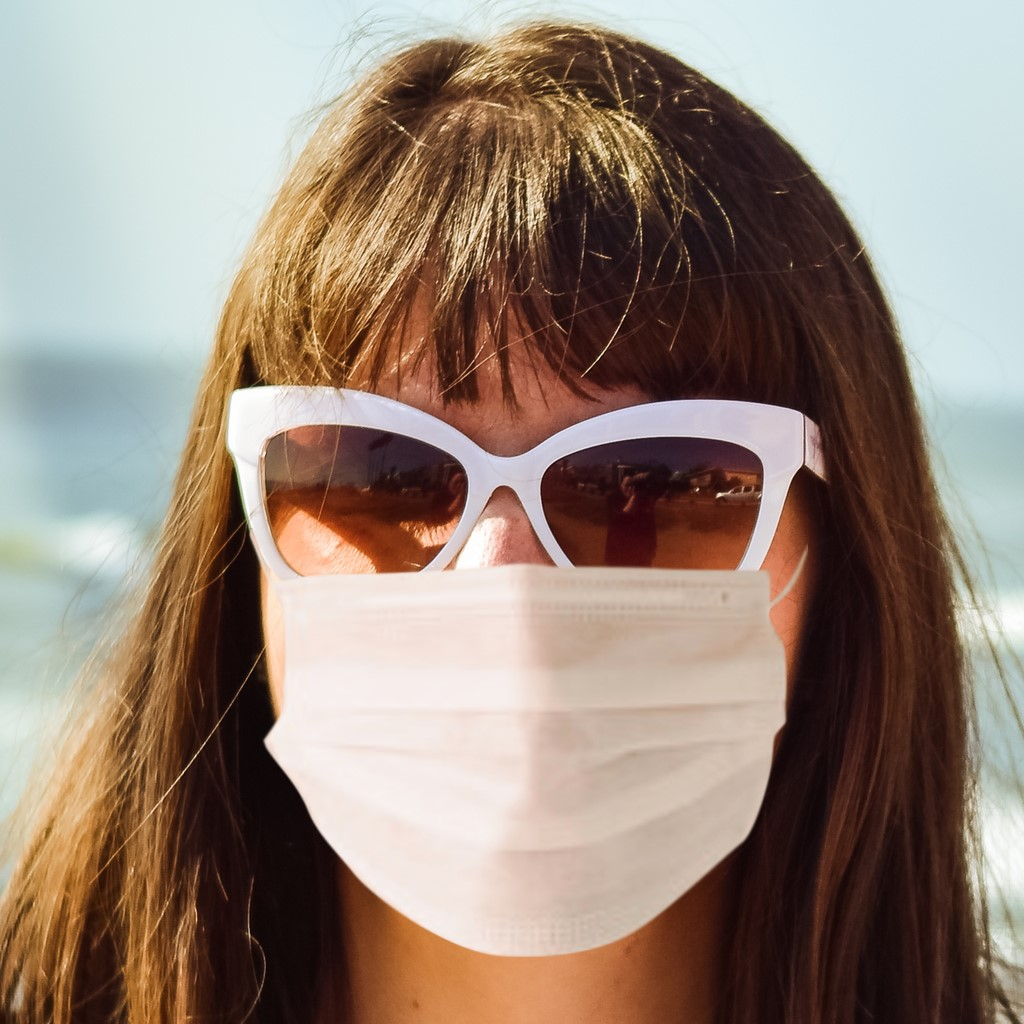con_mascara: (241, 228, 821, 952)
